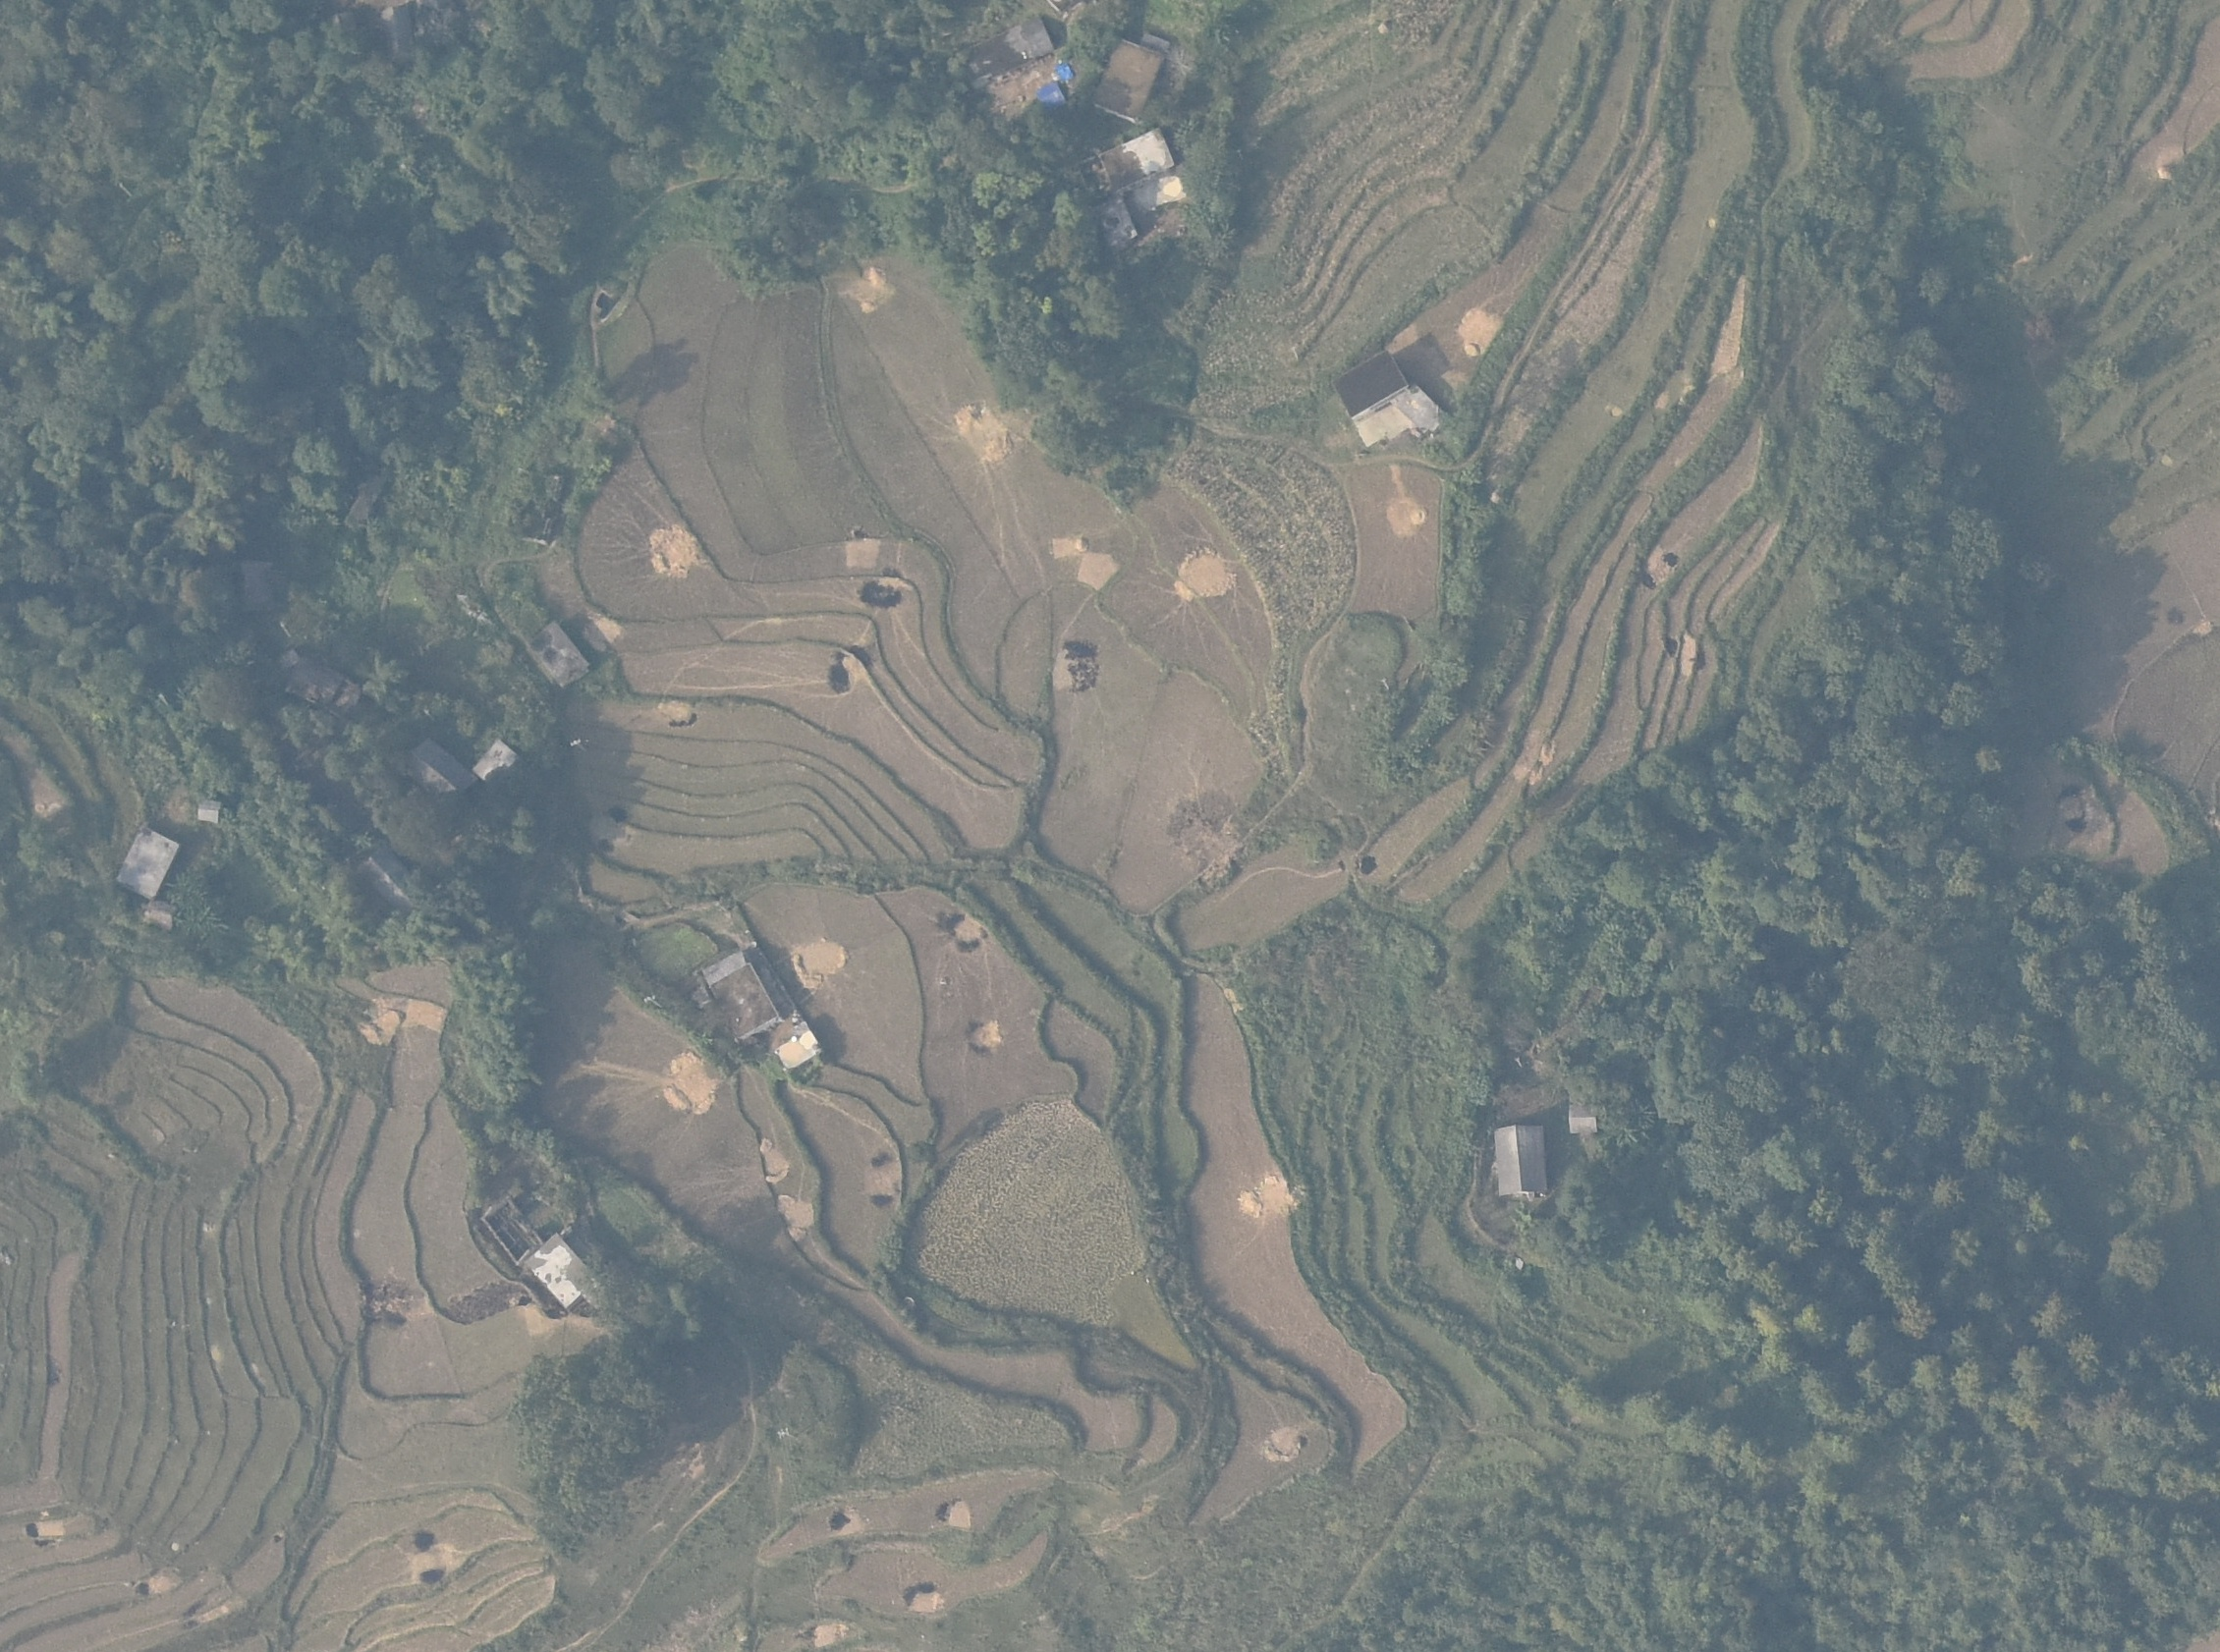building: (681, 940, 795, 1049), (1092, 28, 1177, 128), (524, 1231, 616, 1312), (393, 736, 484, 810), (957, 12, 1056, 77), (1491, 1119, 1557, 1207), (1085, 127, 1182, 187), (109, 824, 187, 898), (1334, 348, 1412, 419), (357, 843, 422, 919), (528, 616, 589, 693), (1081, 192, 1142, 254), (472, 740, 518, 786), (195, 796, 225, 823)
prefabricated-house: (1029, 82, 1071, 109)
